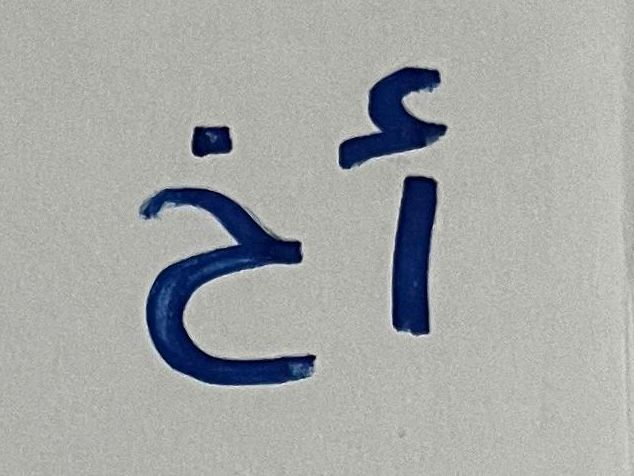hamza: (332, 52, 487, 356)
khah: (100, 72, 323, 410)
